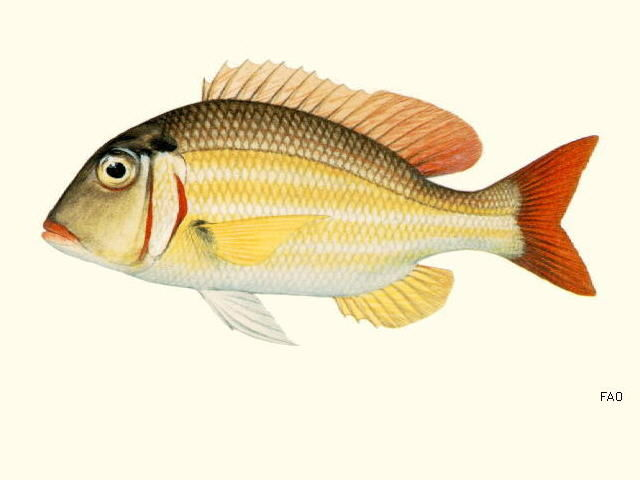fish: (39, 55, 599, 345)
